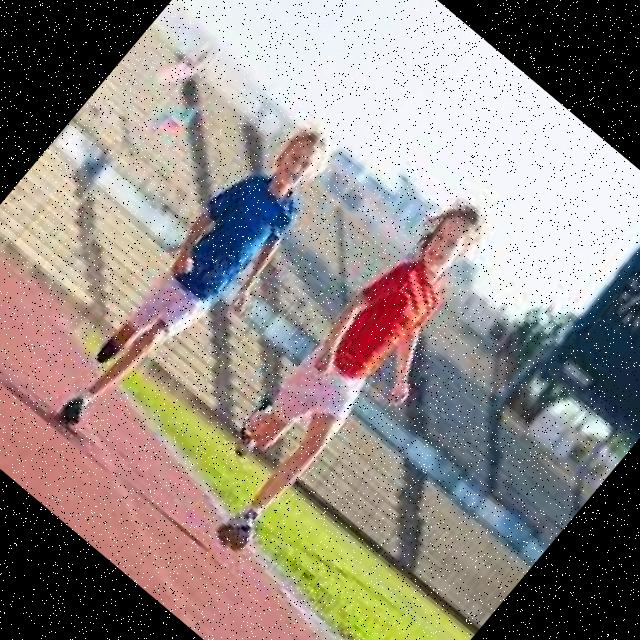Person: (175, 182, 528, 573), (37, 106, 364, 470)
